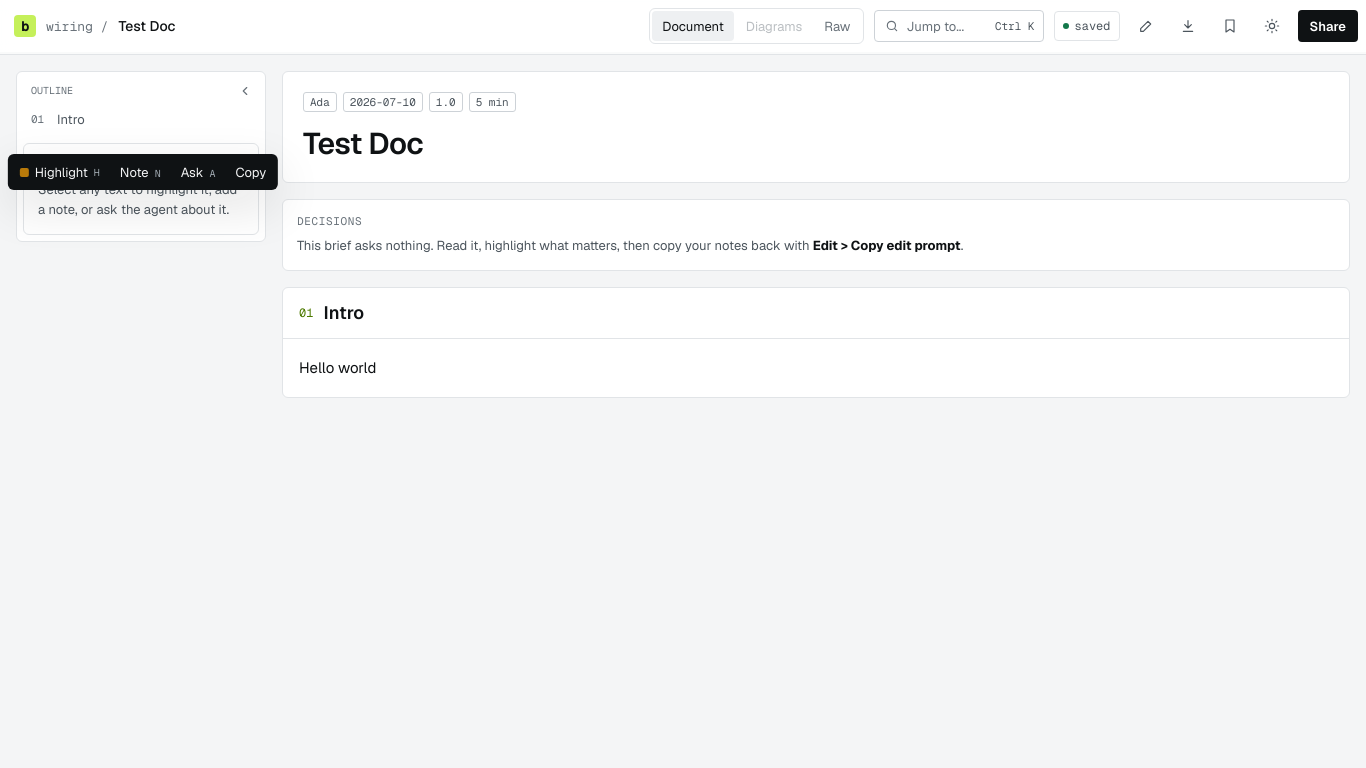
Test: SessionView popover wiring (integration) › Note action opens the note popover; a later Ask action closes it and opens the ask popover instead
Check: the text "Hello world" is shown, box [299,358,376,377]
Click the button "Note" at (140, 172), box [111,157,170,187]
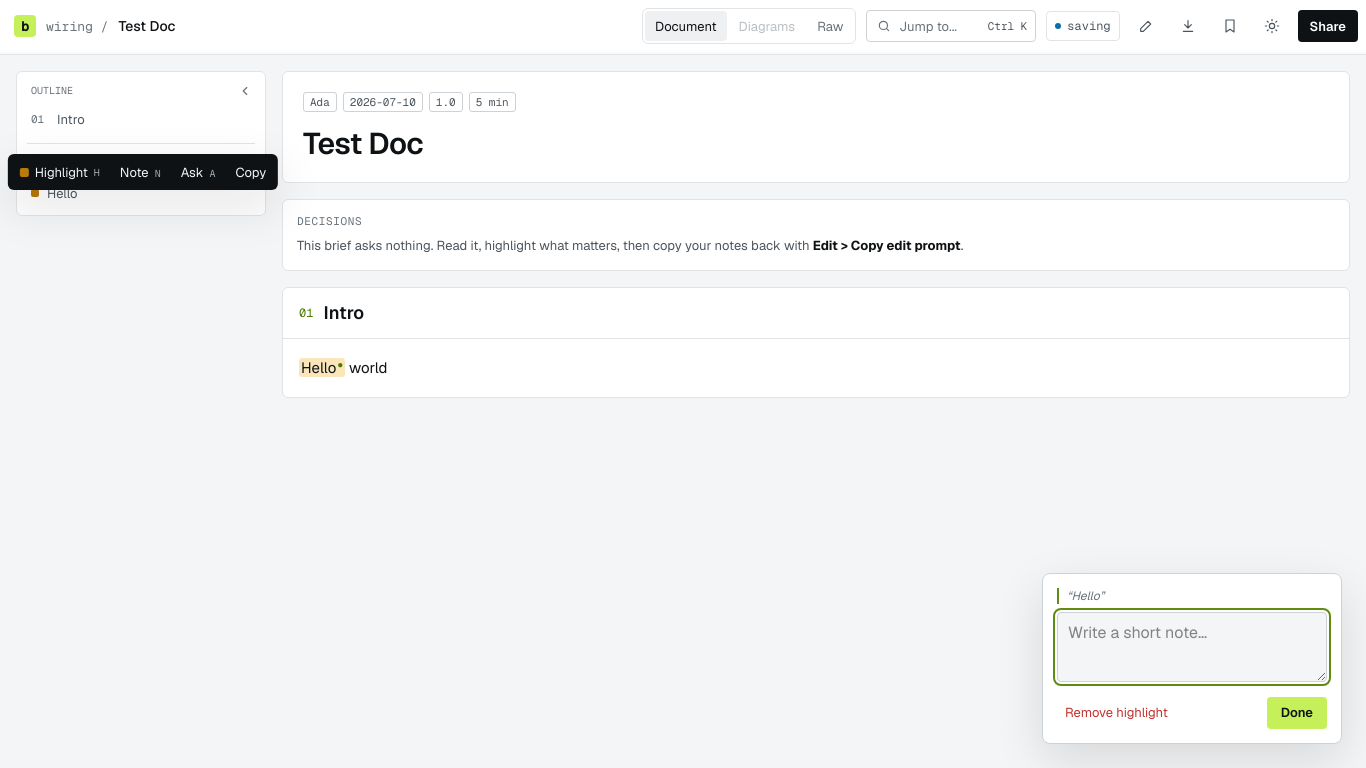
Check: the text box with placeholder "Write a short note…" is shown, box [1057,612,1327,682]
Click the button "Ask" at (198, 172), box [172,157,224,187]
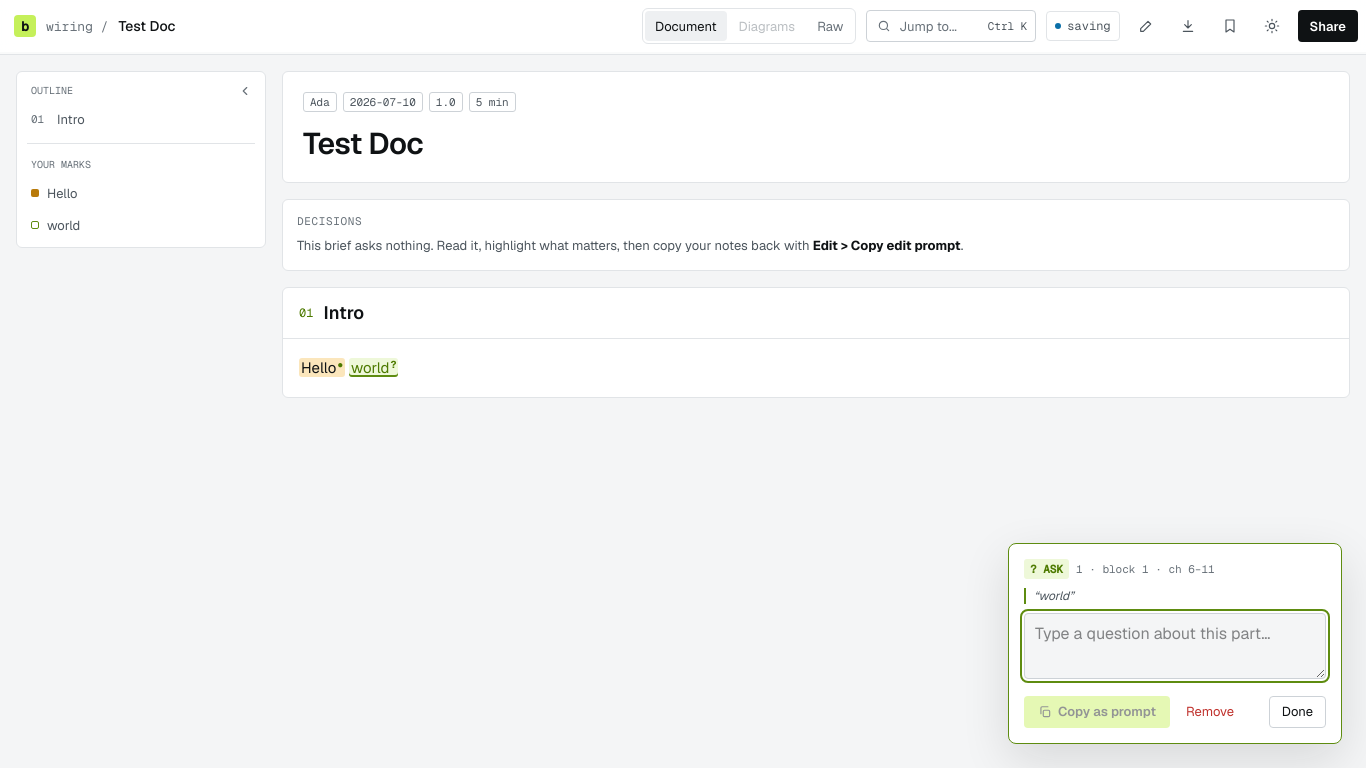
Check: the button with placeholder "write a short note" is gone
Check: the button "Copy as prompt" is shown, box [1024,696,1170,728]
